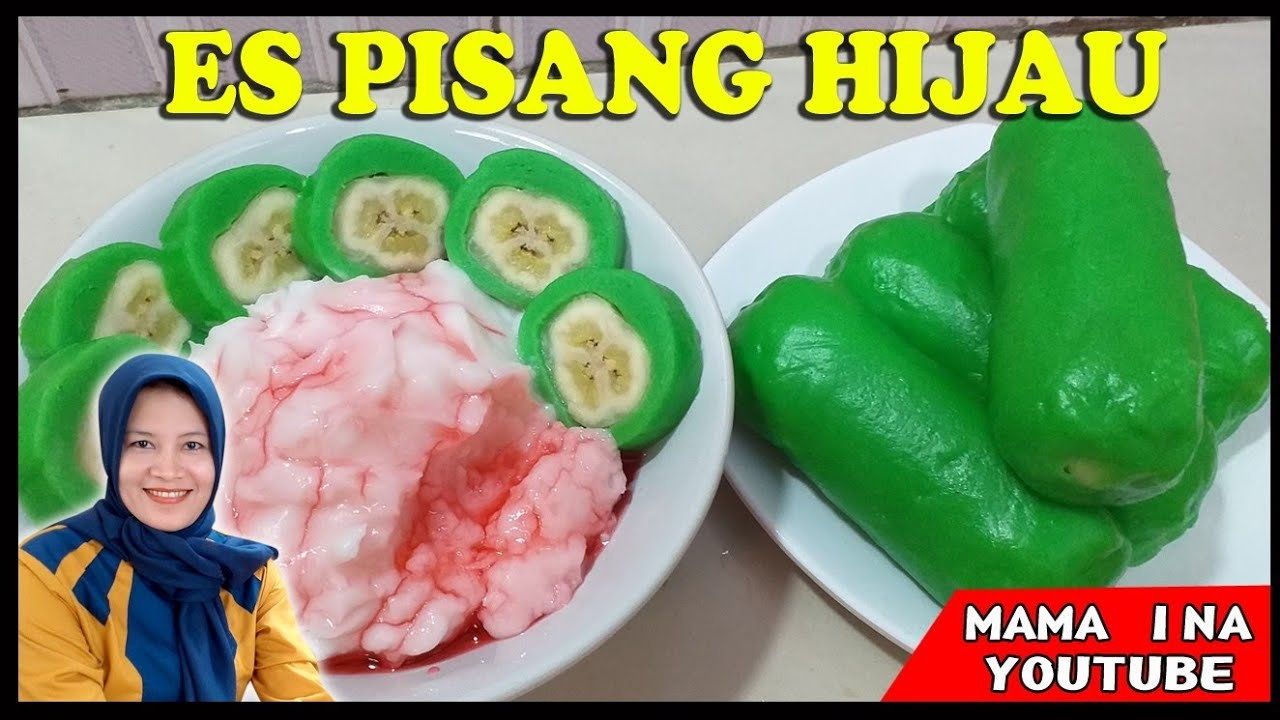pisang_ijo: (524, 266, 703, 433)
